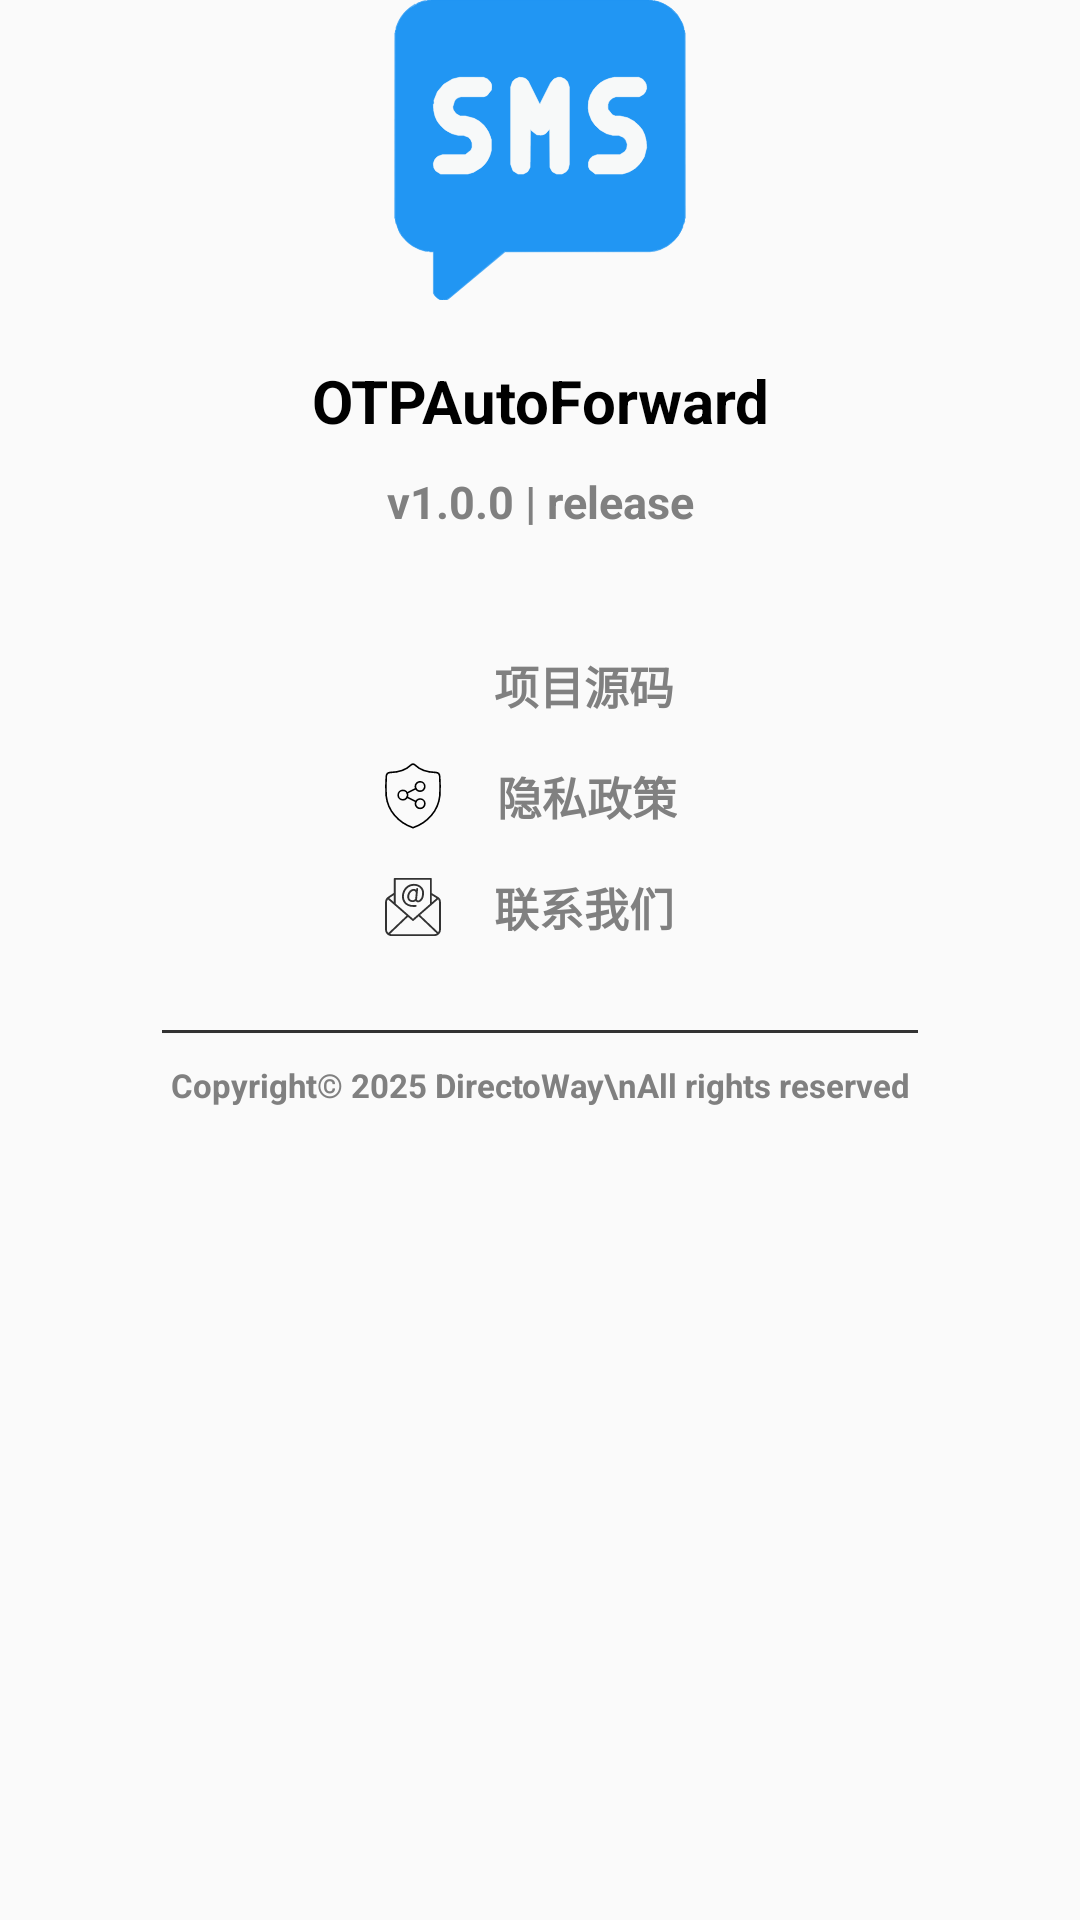

Screen size 1080x1920. Icon name, then its center in pixels as (x,y):
contact email mail: (413,907)
private share: (413,796)
